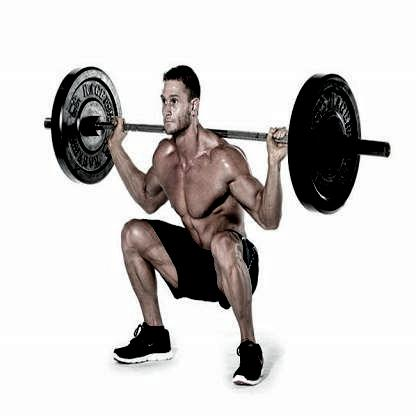Barbell: (382, 140, 393, 160)
